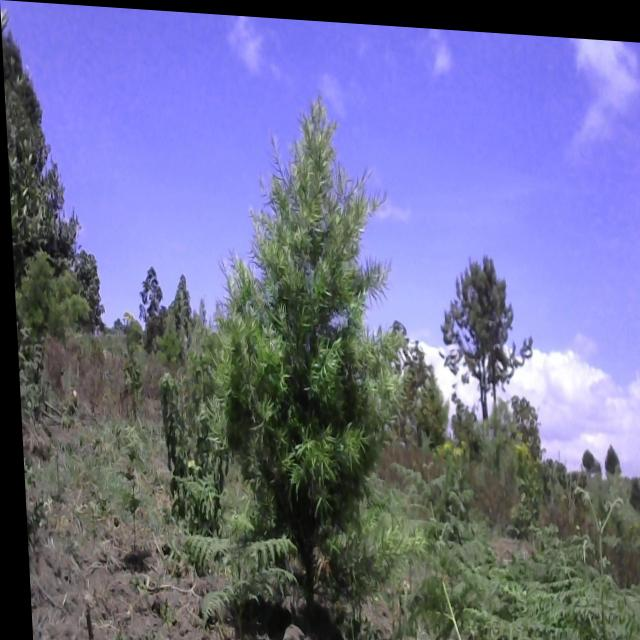Podocarpus falcatus: (212, 94, 392, 599)
cedrus: (598, 432, 621, 474), (637, 446, 640, 491)
other: (0, 2, 69, 259), (435, 230, 522, 415), (163, 266, 192, 339), (135, 260, 161, 336)
